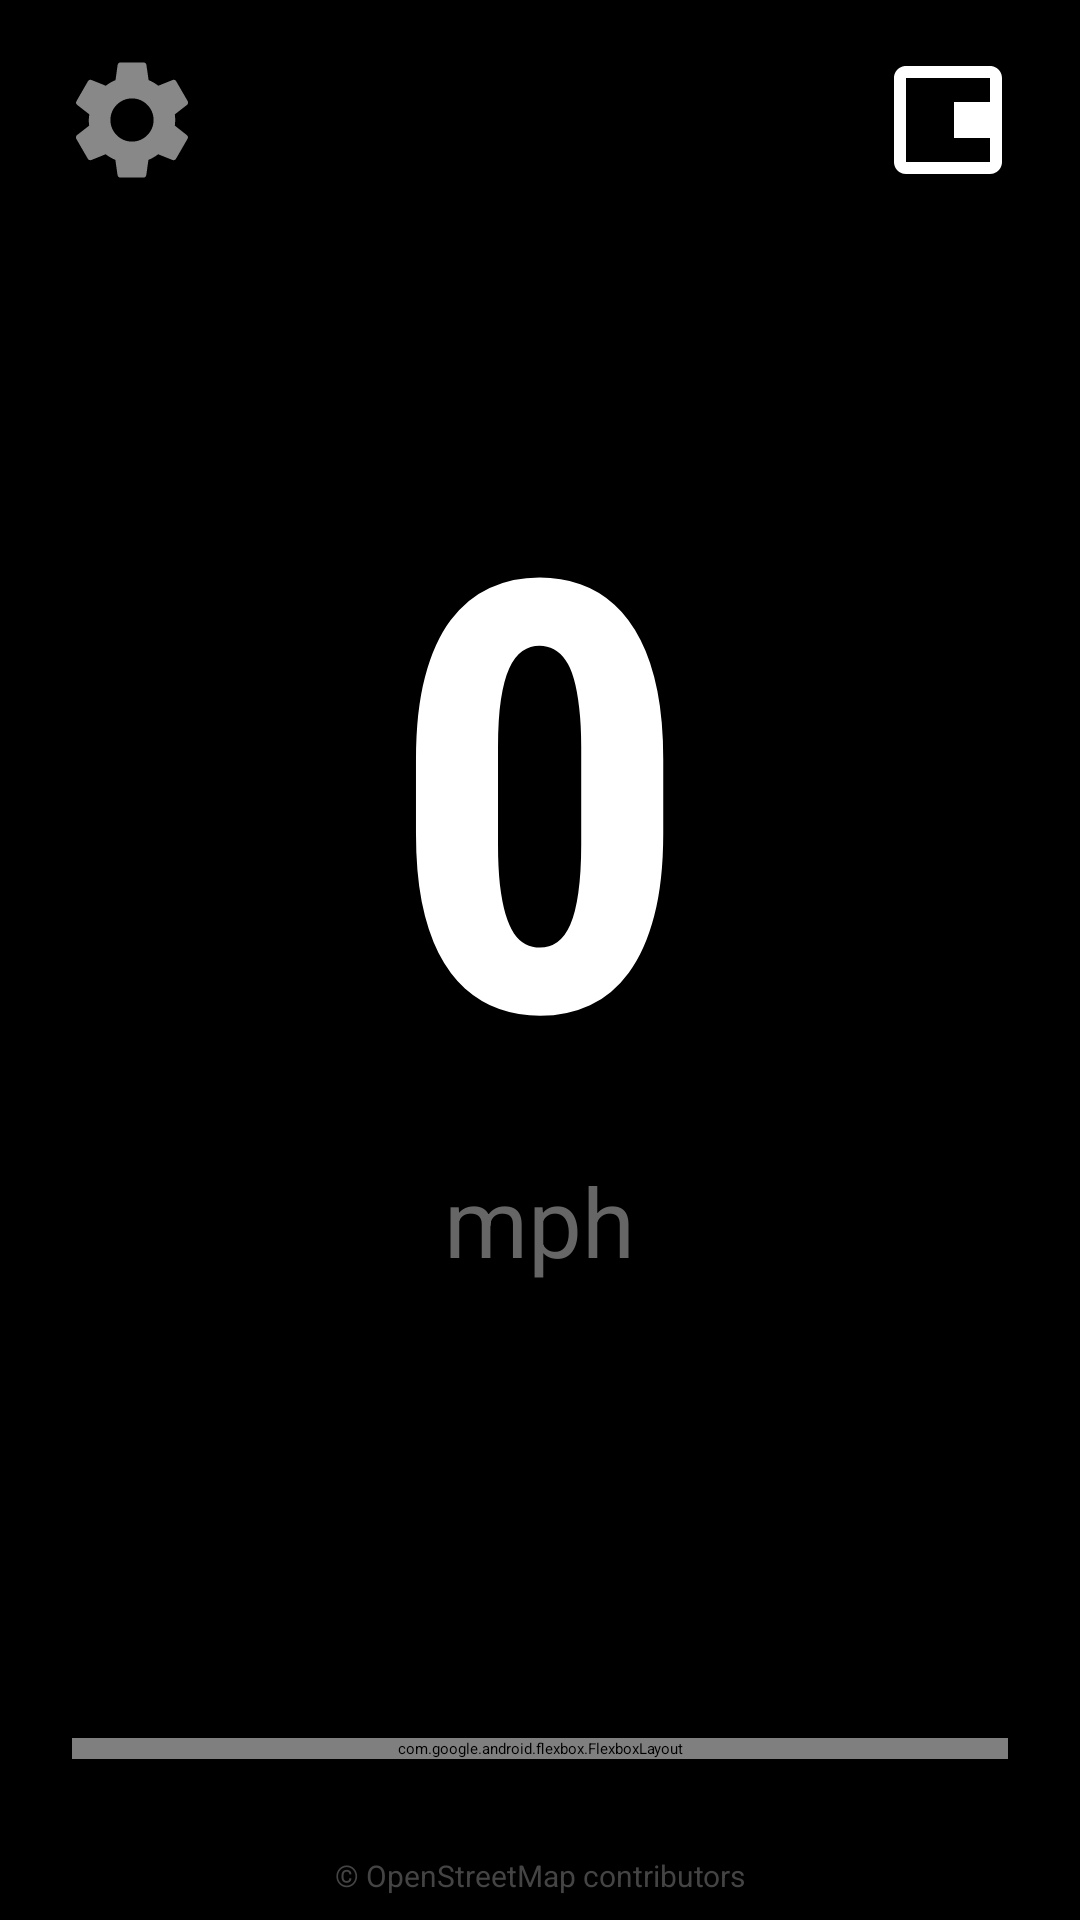

Icons on this 1080px×1920px Android screen, each with the point to tap as (x,y):
Floating Mode: (948,120)
Settings: (132,120)
